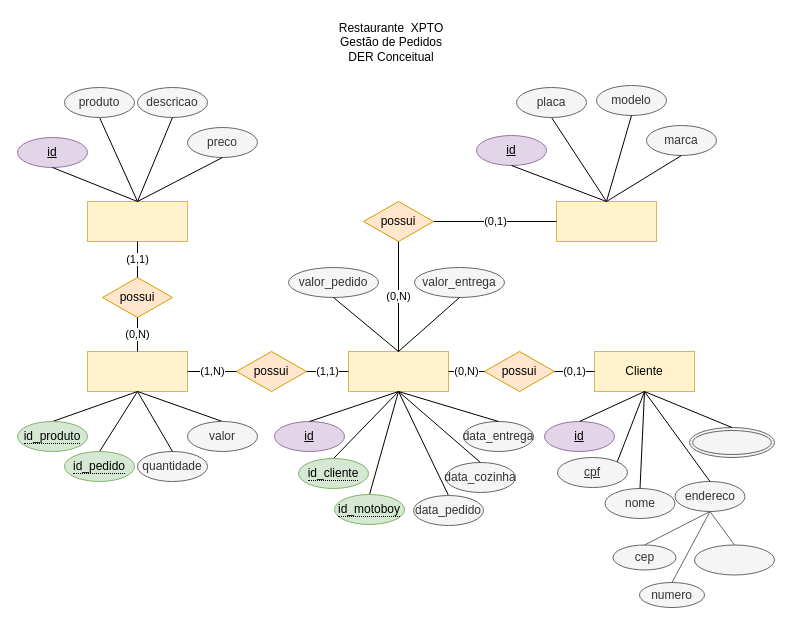
The diagram is 792 pixels wide and 625 high, and some of its shapes have lost their labels. Each missing label, with the box of its shape:
Cardapio: (86, 200, 188, 242)
complemento: (694, 544, 774, 575)
Itens_pedido: (86, 350, 188, 392)
Motoboy: (556, 200, 656, 242)
Pedidos: (348, 350, 448, 392)
telefones: (688, 426, 774, 458)
